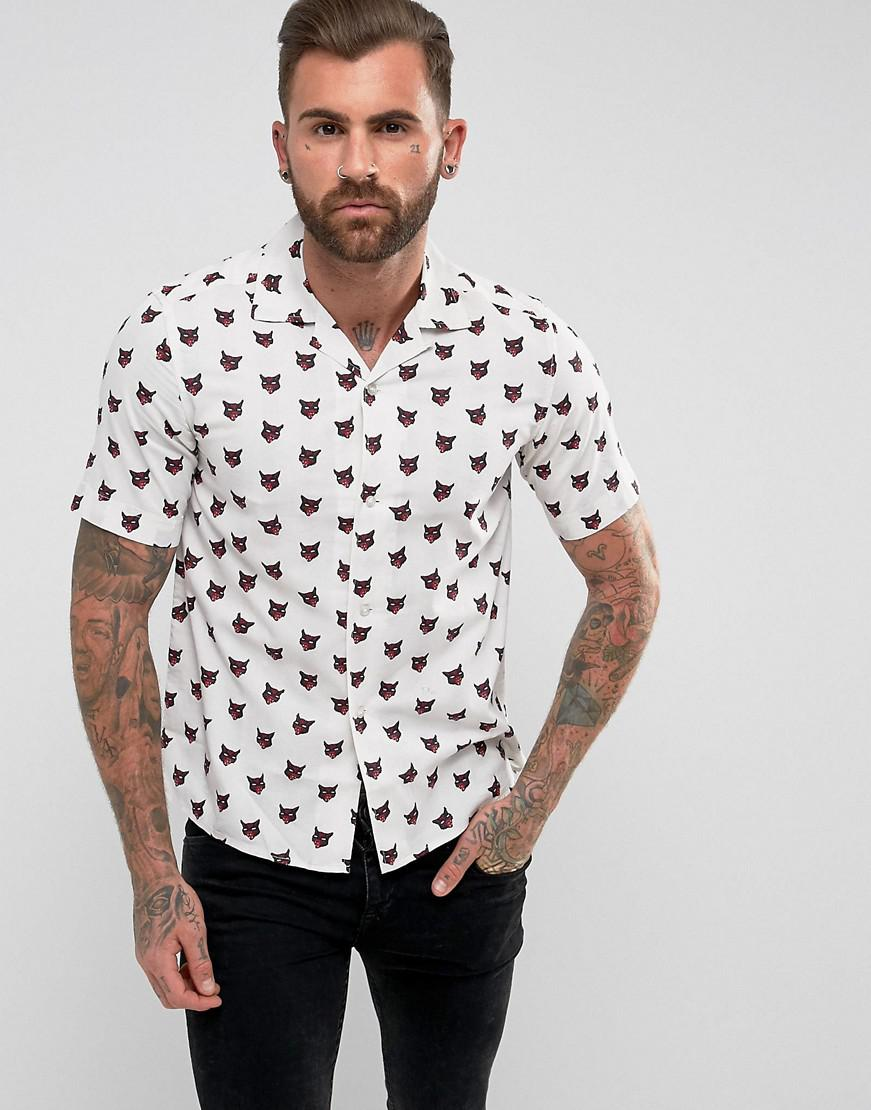teeshirt: (73, 251, 642, 890)
